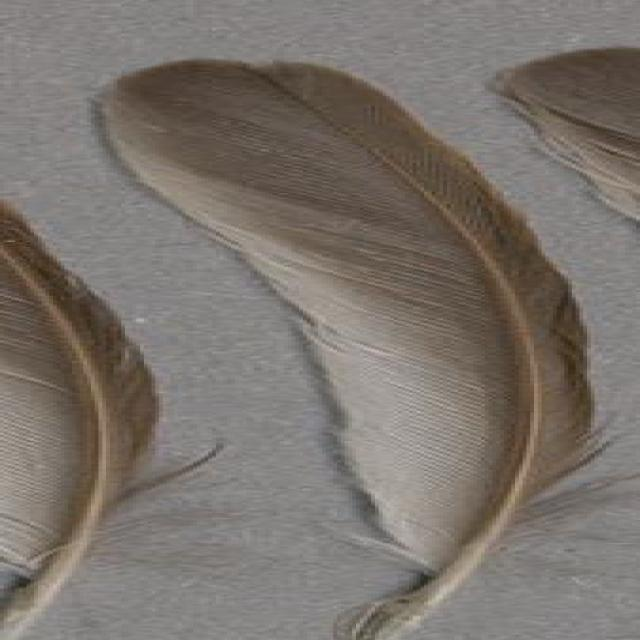feather: (87, 54, 640, 640)
